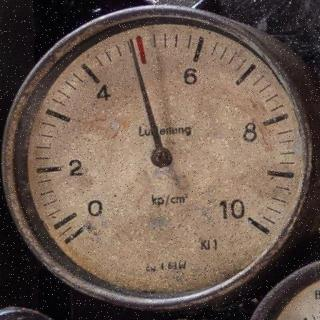gauge: (0, 0, 320, 320), (231, 202, 269, 238), (61, 214, 98, 250), (149, 146, 173, 170), (125, 34, 139, 50)
